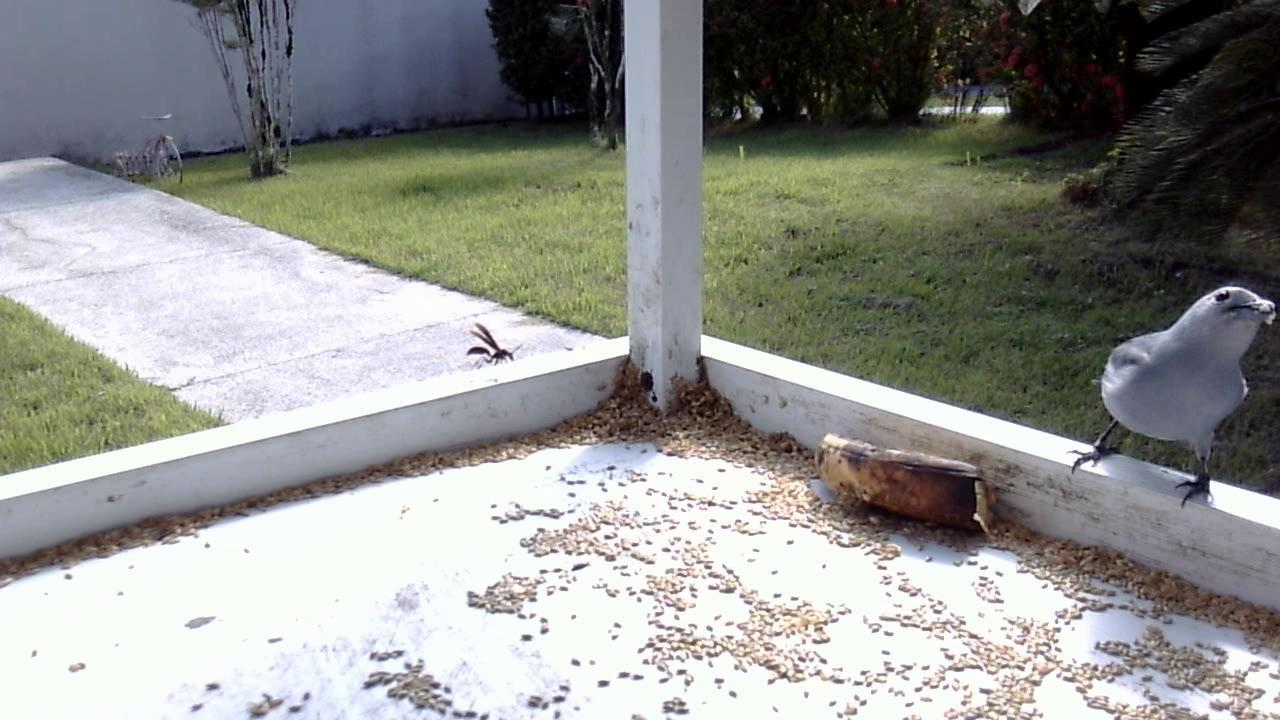sanhaco_da_amazonia: (1067, 278, 1275, 505)
